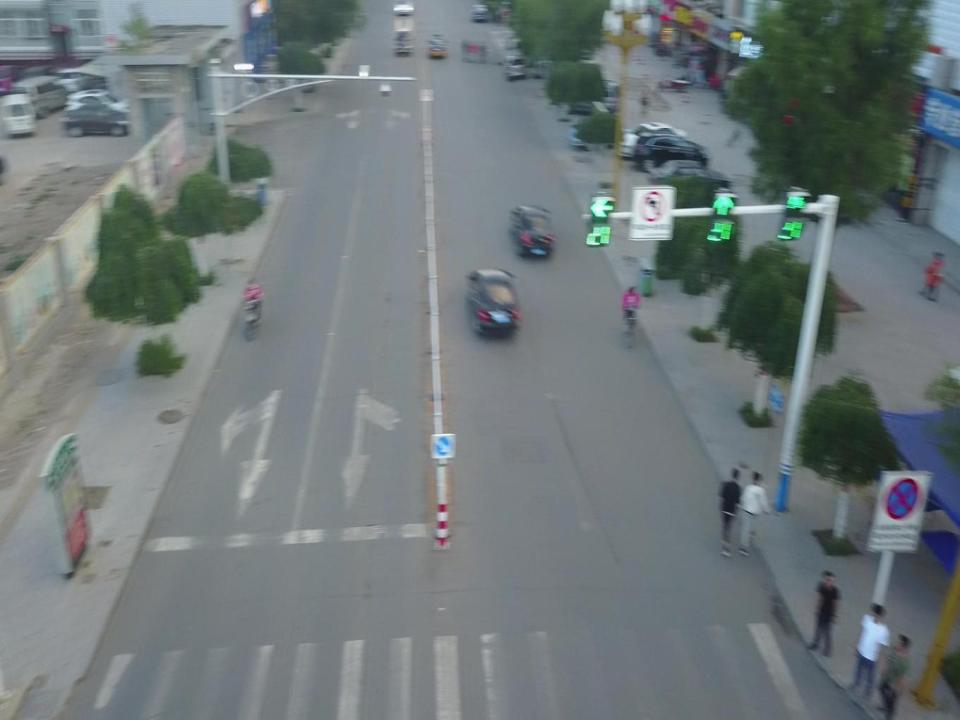bus: (391, 17, 415, 55), (502, 55, 526, 81)
car: (464, 270, 520, 337), (509, 206, 556, 260), (426, 34, 448, 56), (470, 4, 489, 21)
